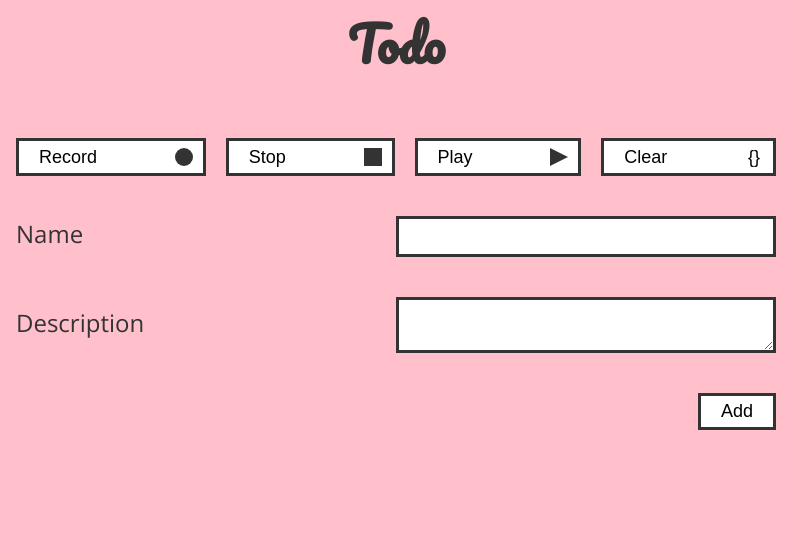
it: Recorder › Records adds, remove, edit › playback
This screenshot has width=793, height=553.
What coordinates should you click on to do the following:
click the button with test id "play"
I would click on:
 (499, 157)
Its box is [415, 138, 582, 175].
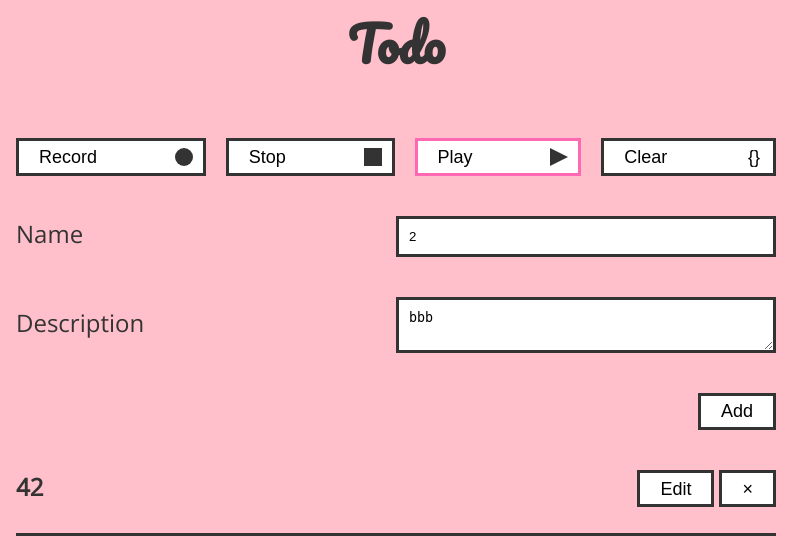
Expected: the text with test id "name" reads "42", [16, 470, 43, 503]
